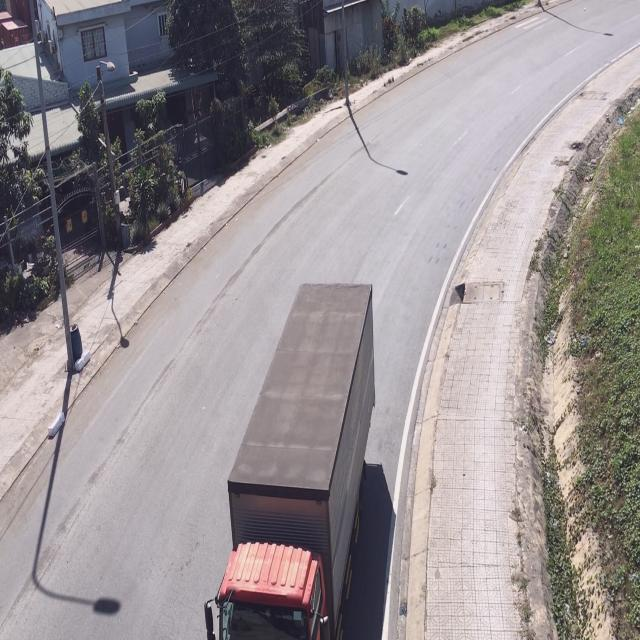truck: (214, 275, 376, 638)
